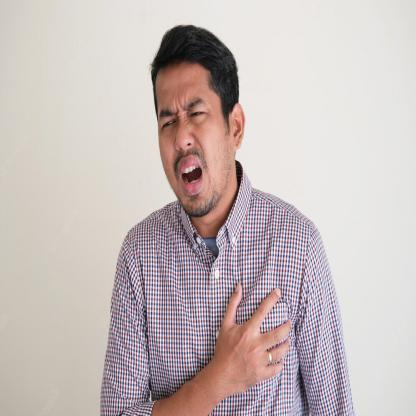pain: (158, 91, 212, 131)
